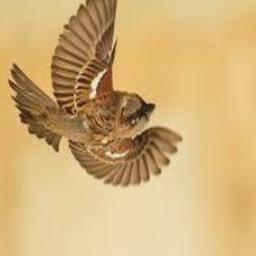Sparrow: (8, 0, 183, 188)
